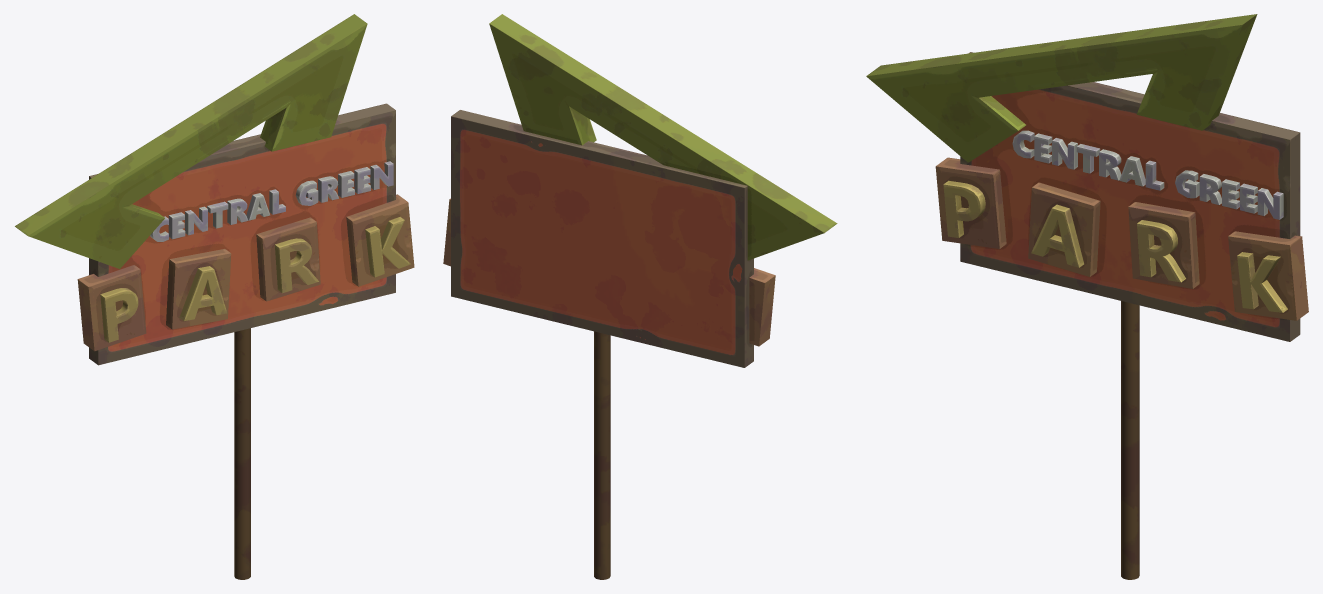
The model's file is SM_advertising_sign_02.glb.
3 views of the same model, side by side, from view 1: azimuth 30°, elevation 25°; view 2: azimuth 150°, elevation 25°; view 3: azimuth 330°, elevation 25° (orthographic). The views are drawn at different scales.
Parts seen in each view (by area): view 1: SM_advertising_sign_02; view 2: SM_advertising_sign_02; view 3: SM_advertising_sign_02.
Part boxes in pixels (x1,y1,x2,y2): SM_advertising_sign_02: (15, 14, 414, 579); SM_advertising_sign_02: (443, 14, 837, 579); SM_advertising_sign_02: (866, 14, 1308, 579).
Size of the model in its own units: 5.43 by 7.14 by 0.4878.
Materials: 1 (1 with a texture image).
